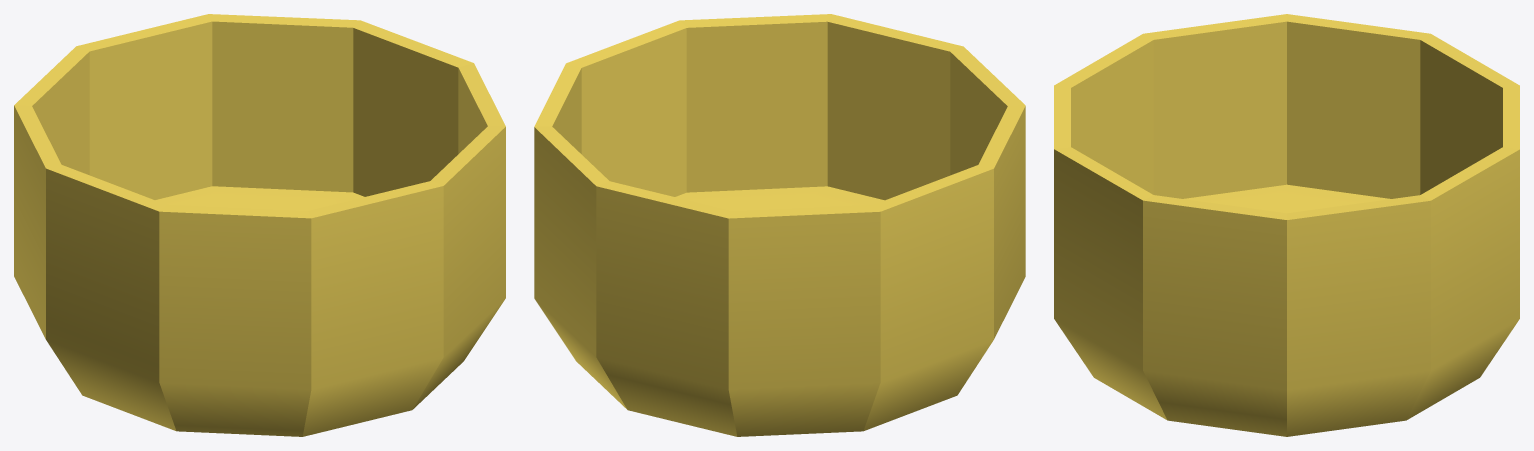
Rendered from Empty_Bowl.fbx.
3 renders of one model, left to right at view 1: azimuth 30°, elevation 25°; view 2: azimuth 150°, elevation 25°; view 3: azimuth 270°, elevation 25°, orthographic.
Visible parts, largest first — view 1: pCylinder41; view 2: pCylinder41; view 3: pCylinder41.
Part boxes in pixels (x1,y1,x2,y2): pCylinder41: (14, 14, 505, 436); pCylinder41: (534, 14, 1025, 436); pCylinder41: (1054, 14, 1519, 436).
Bounding box in the file's own units: 27.41 × 14.48 × 26.07.
